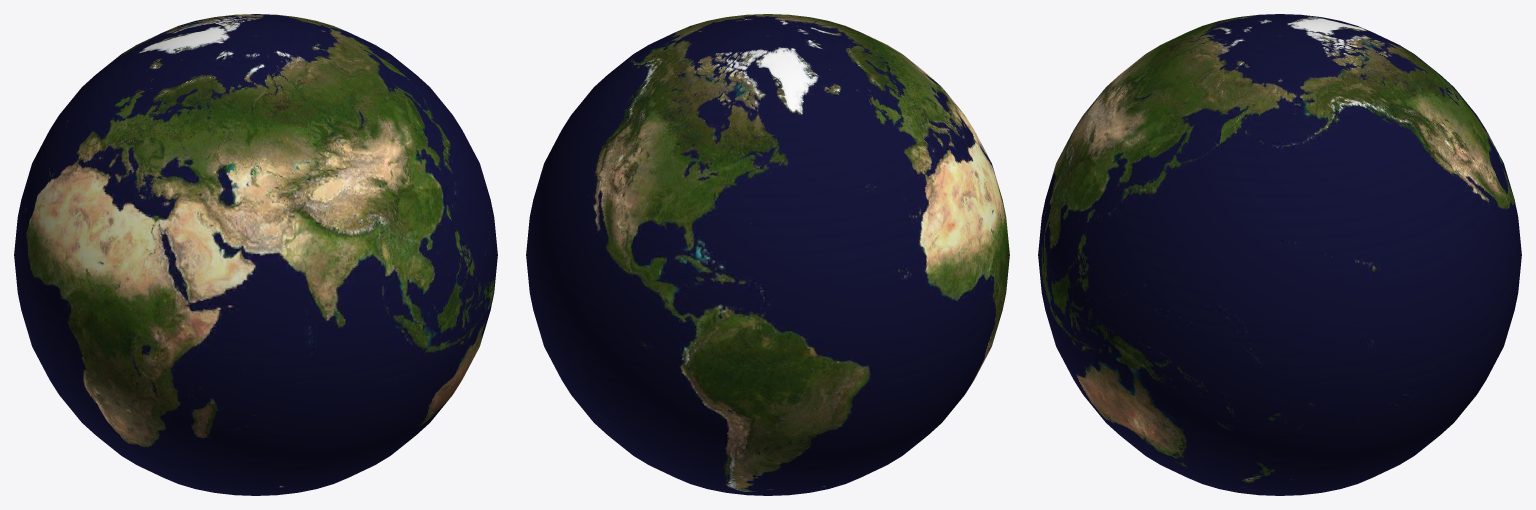
Rendered from earth2.glb.
The picture shows the model from 3 angles, left to right: view 1: azimuth 30°, elevation 25°; view 2: azimuth 150°, elevation 25°; view 3: azimuth 270°, elevation 25°; orthographic projection.
Visible parts, largest first — view 1: Asset3DLoader.sceneRoot; view 2: Asset3DLoader.sceneRoot; view 3: Asset3DLoader.sceneRoot.
Part boxes in pixels (x1=…): Asset3DLoader.sceneRoot: x1=14, y1=14, x2=497, y2=495; Asset3DLoader.sceneRoot: x1=526, y1=14, x2=1009, y2=495; Asset3DLoader.sceneRoot: x1=1038, y1=14, x2=1521, y2=495.
Bounding box in the file's own units: 512 × 512 × 512.
Materials: 1 (1 with a texture image).
